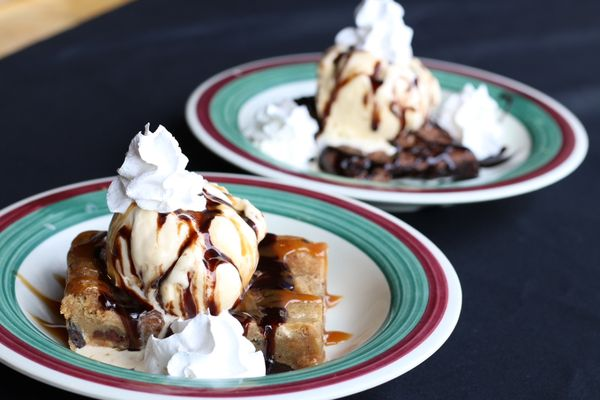curry: (3, 7, 600, 395)
sushi: (60, 121, 268, 349), (313, 0, 443, 167), (235, 234, 330, 370)
